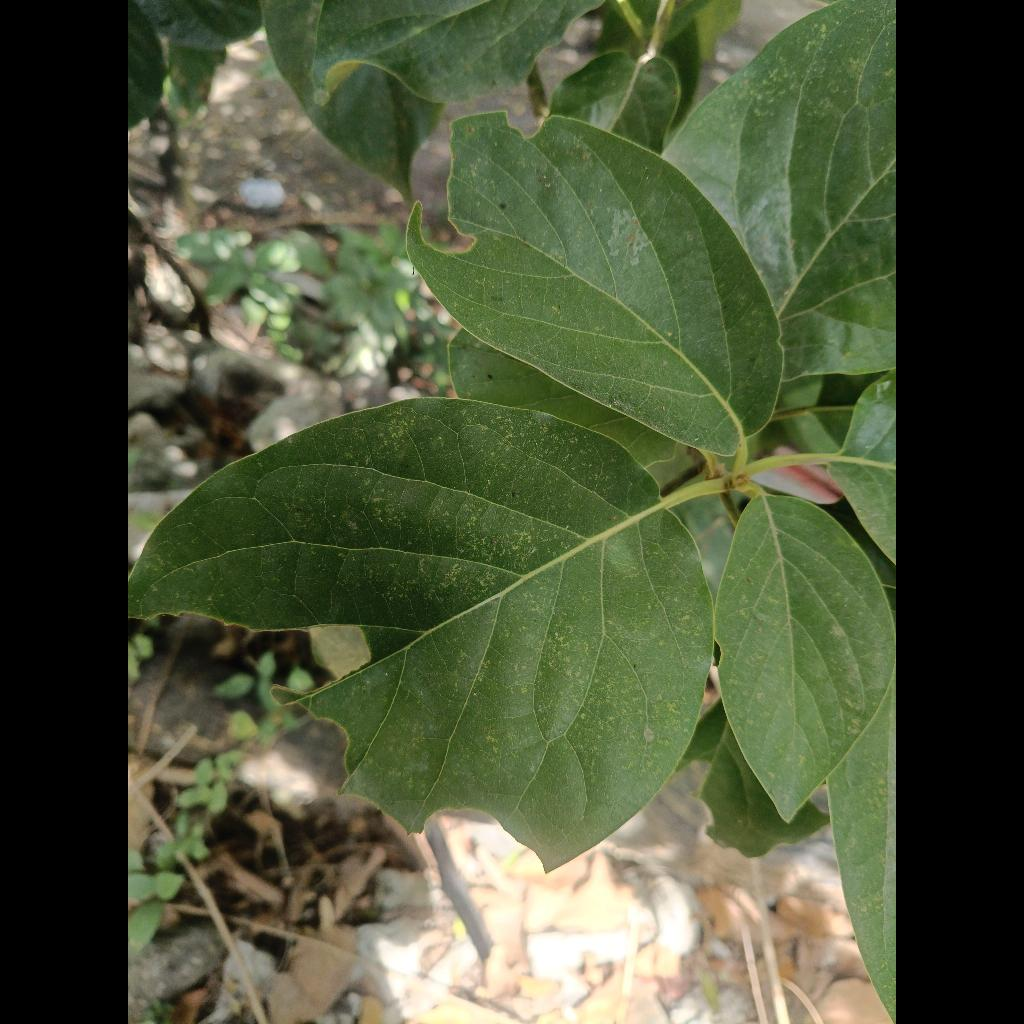Pest Infested: (128, 398, 713, 868), (407, 113, 782, 455)
